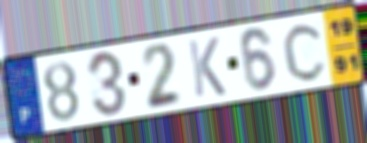2: (138, 41, 184, 112)
3: (84, 48, 129, 119)
6: (239, 25, 278, 94)
8: (40, 58, 82, 125)
C: (281, 20, 329, 84)
K: (186, 35, 229, 100)
